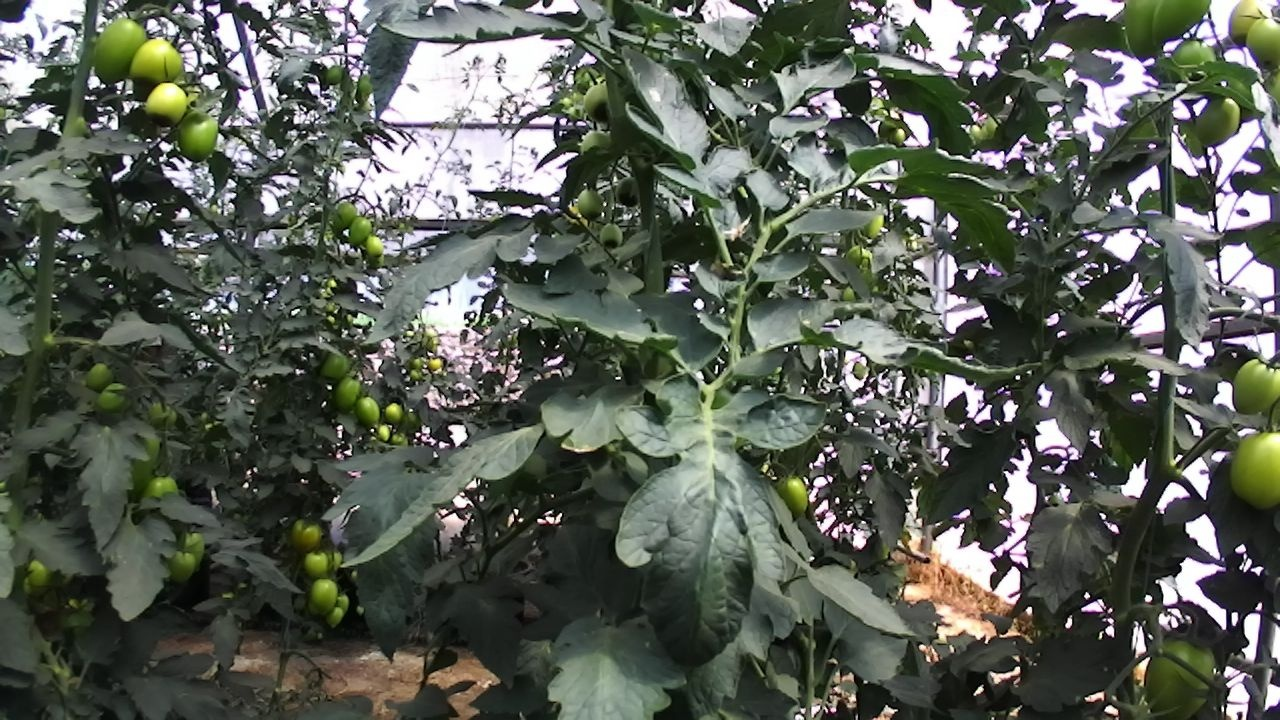tomato: (1132, 621, 1236, 720), (1220, 413, 1280, 521), (83, 13, 157, 90), (1112, 0, 1185, 74), (1220, 343, 1280, 430), (1187, 86, 1250, 156), (123, 29, 188, 96), (1138, 0, 1218, 52), (1159, 33, 1229, 92), (174, 102, 231, 169), (138, 72, 196, 134), (1218, 0, 1279, 55), (137, 469, 189, 527), (772, 466, 821, 524), (1236, 10, 1280, 74), (573, 123, 622, 173), (573, 76, 620, 125), (284, 512, 328, 561), (329, 368, 371, 419), (177, 524, 213, 578), (92, 377, 135, 420), (315, 345, 356, 389), (162, 546, 202, 589), (610, 169, 650, 212), (573, 180, 610, 225), (21, 553, 59, 596), (349, 391, 387, 433), (307, 573, 342, 618), (82, 356, 120, 397), (300, 544, 337, 586), (840, 242, 881, 278), (344, 209, 378, 252), (328, 196, 363, 237), (858, 206, 894, 244), (595, 217, 629, 253), (361, 229, 389, 263), (322, 57, 348, 90), (885, 122, 912, 151), (382, 398, 408, 427), (331, 587, 355, 618), (372, 417, 395, 446), (354, 70, 376, 100), (848, 357, 873, 383), (325, 603, 348, 631), (426, 354, 444, 374), (407, 365, 425, 383)
